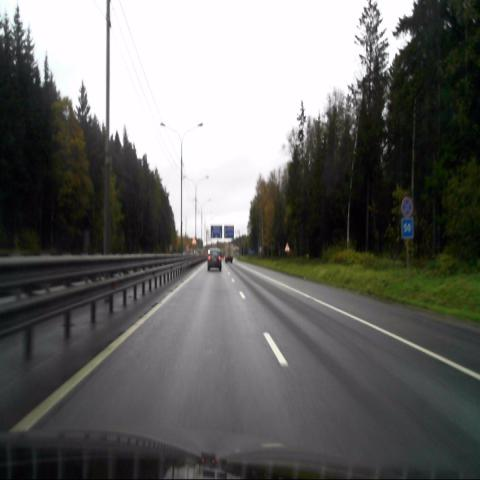6_2: (401, 218, 413, 238)
